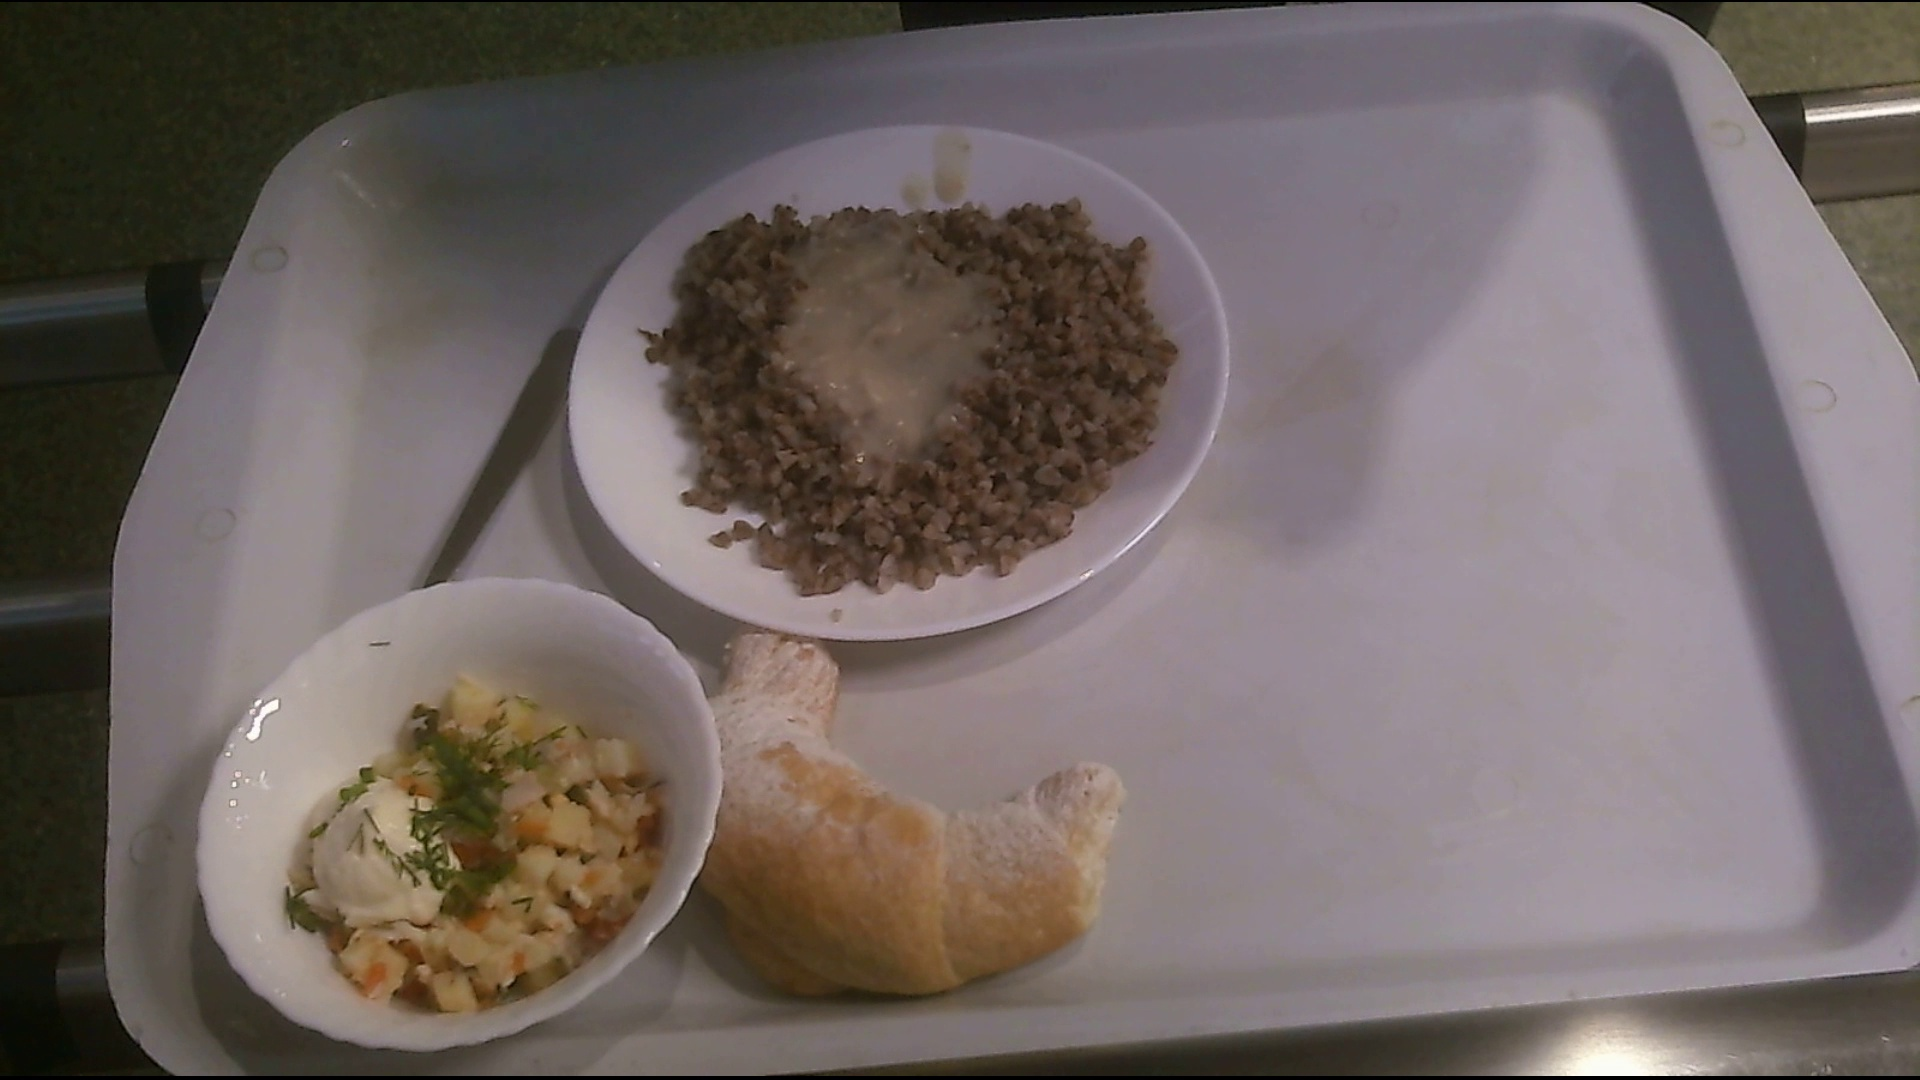bowl: (196, 575, 723, 1052)
other: (700, 624, 1137, 1009)
plate: (564, 117, 1237, 647)
